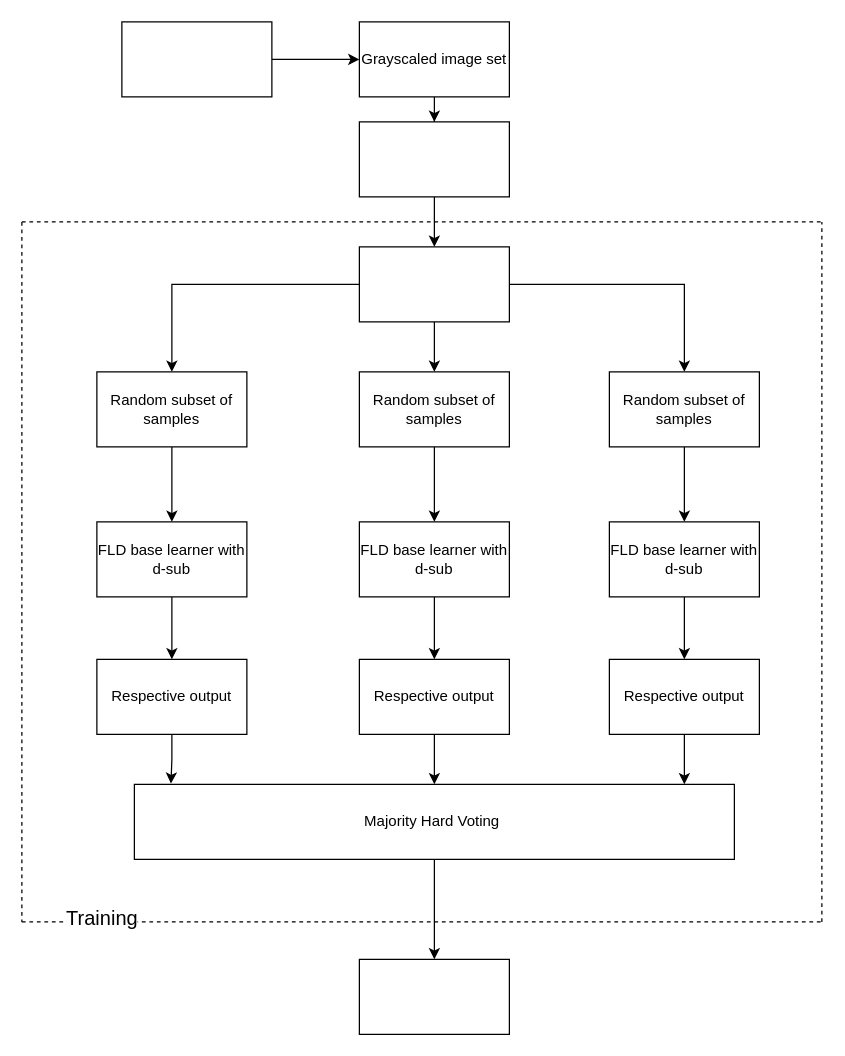
The diagram is 845 pixels wide and 1056 high, and some of its shapes have lost their labels. Here are the shapes that lost their labels. From the top down, the centre of each, then its label:
(196,59): Image set
(433,159): Feature extraction from JPEG coefficient [ccc300]
(433,284): Bootstraping
(433,996): Final Result
